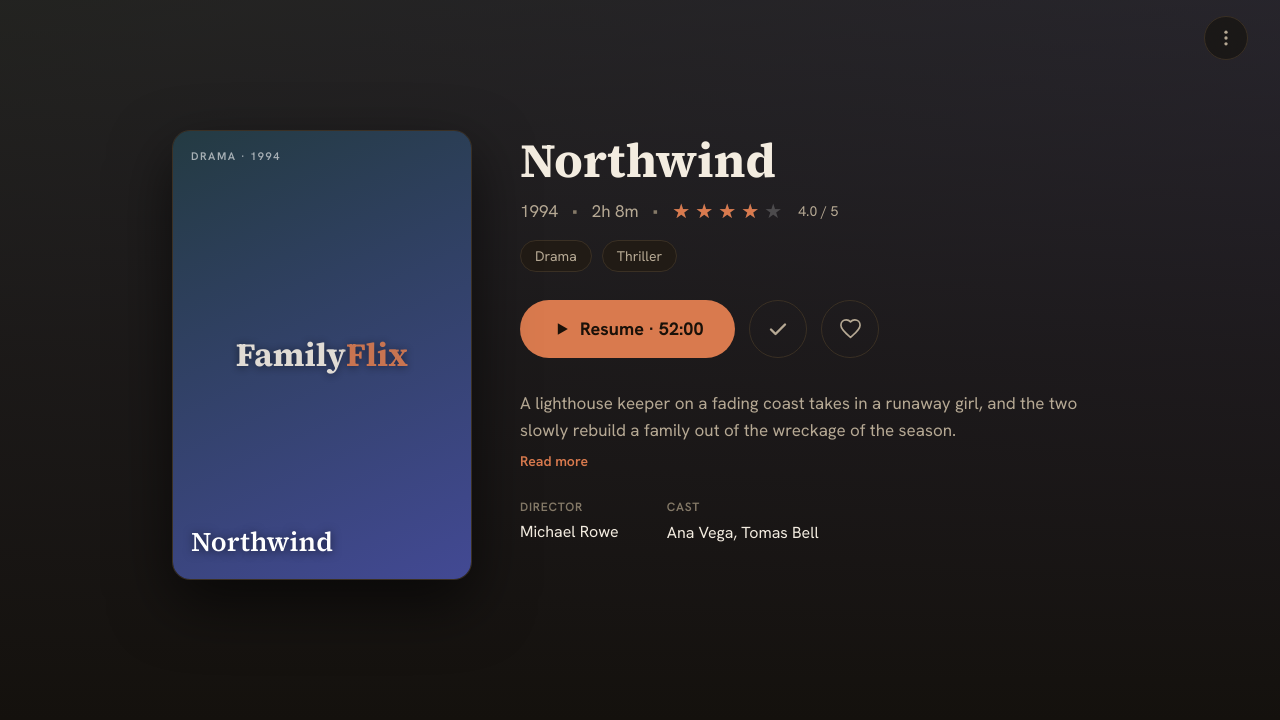
Test: MovieDetail — the two toggles › stops offering a resume point once the movie is marked watched
This screenshot has width=1280, height=720.
Expected: the button "Resume · 52:00" is shown, top-left (520, 300), bottom-right (736, 358)
Click the button named "mark as watched": (778, 329) top-left (750, 300), bottom-right (808, 358)
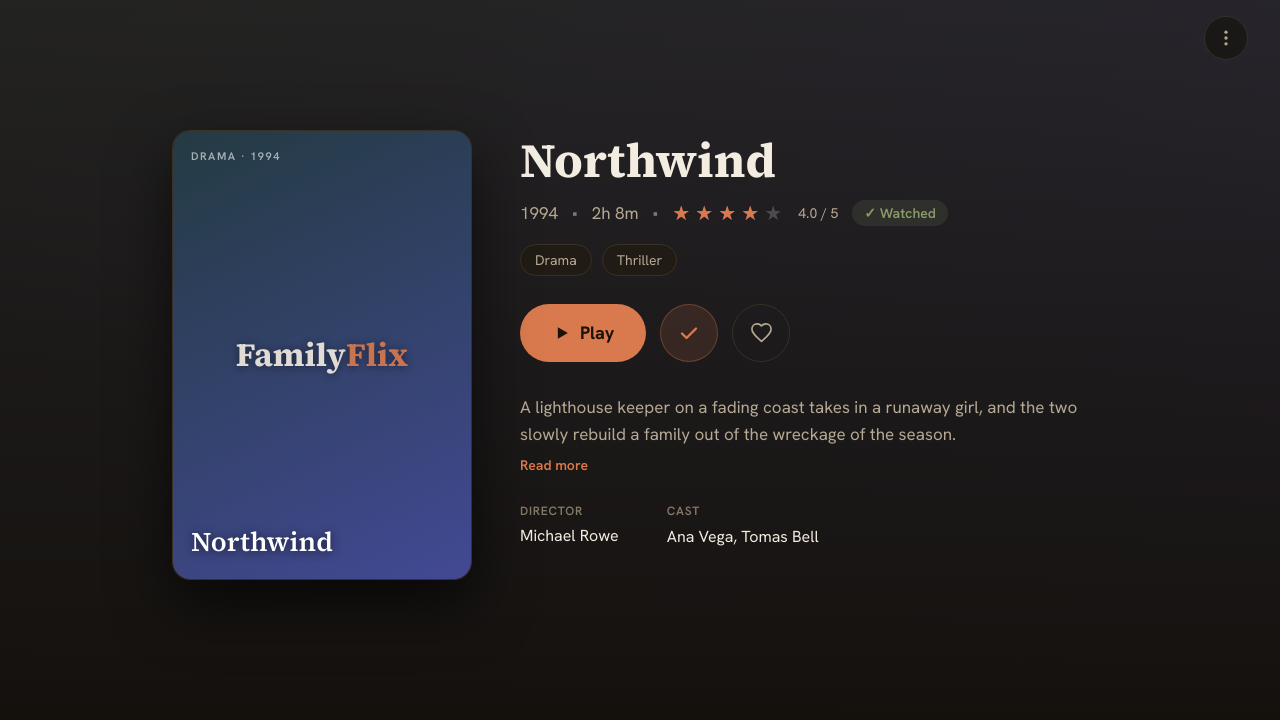
Expected: the button "Play" is shown, top-left (520, 304), bottom-right (646, 362)
Expected: the button "Resume" is gone
